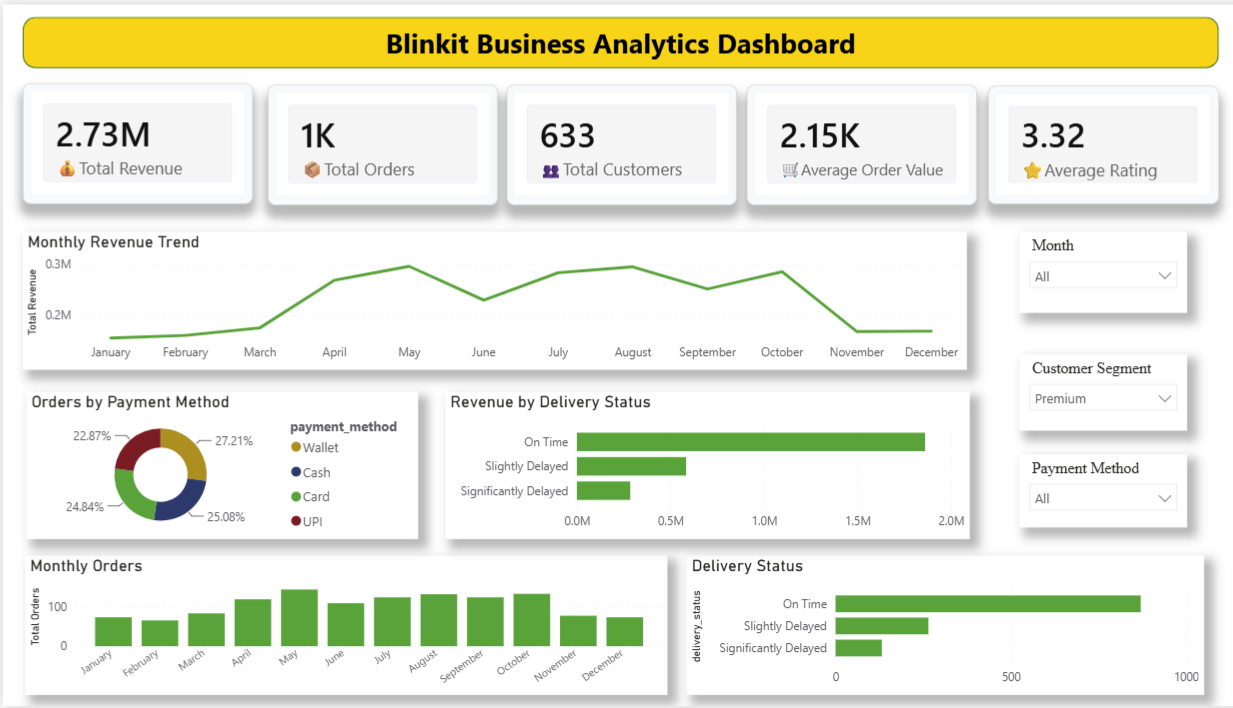

What the dashboard file says about the page in this screenshot:
{"tool":"powerbi","page":{"name":"Executive Dashboard","canvas":[1280,720],"ordinal":0},"visuals":[{"type":"lineChart","title":"Monthly Revenue Trend","fields":{"Category":["Date.Month"],"Y":["Measures (2).Total Revenue"]},"box":[20,233.3,968.3,141.7],"z":0},{"type":"clusteredColumnChart","title":"Monthly Orders","fields":{"Category":["Date.Month"],"Y":["Measures (2).Total Orders"]},"box":[23.3,565,658.3,143.3],"z":1000},{"type":"donutChart","title":"Orders by Payment Method","fields":{"Category":["Orders.payment_method"],"Y":["Measures (2).Total Orders"]},"box":[23.8,397.5,401.2,151.2],"z":2000},{"type":"shape","title":"Blinkit Business Analytics Dashboard","box":[20,12.5,1226.2,52.5],"z":3000},{"type":"clusteredBarChart","title":"Delivery Status","fields":{"Category":["Orders.delivery_status"],"Y":["Measures (2).Total Orders"]},"box":[701.4,565.7,530,142.9],"z":4000},{"type":"clusteredBarChart","title":"Revenue by Delivery Status","fields":{"Category":["Orders.delivery_status"],"Y":["Measures (2).Total Revenue"]},"box":[453.8,397.5,537.5,151.2],"z":5000},{"type":"slicer","fields":{"Values":["Date.Month"]},"box":[1041.7,233.3,171.7,83.3],"z":6000},{"type":"slicer","fields":{"Values":["Customers.customer_segment"]},"box":[1041.7,358.3,171.7,78.3],"z":7000},{"type":"slicer","fields":{"Values":["Orders.payment_method"]},"box":[1041.7,461.7,171.7,75],"z":8000},{"type":"cardVisual","fields":{"Data":["Measures (2).Total Revenue"]},"box":[20,81.2,236.2,123.8],"z":9000},{"type":"cardVisual","fields":{"Data":["Measures (2).Total Orders"]},"box":[271.2,82.5,236.2,123.8],"z":10000},{"type":"cardVisual","fields":{"Data":["Measures (2).Total Customers"]},"box":[516.2,82.5,236.2,123.8],"z":11000},{"type":"cardVisual","fields":{"Data":["Measures (2).Average Order Value"]},"box":[762.5,82.5,236.2,123.8],"z":12000},{"type":"cardVisual","fields":{"Data":["Measures (2).Average Rating"]},"box":[1010,83.3,236.7,121.7],"z":13000}]}

Visuals, with their boxes in screenshot pixels (x1, y1, x2, y2), scaled from the page's 1280x720 canvas onto the 1233x708 screenshot:
"Monthly Revenue Trend" lineChart: 19:229:952:369
"Monthly Orders" clusteredColumnChart: 22:556:657:696
"Orders by Payment Method" donutChart: 23:391:409:540
"Blinkit Business Analytics Dashboard" shape: 19:12:1200:64
"Delivery Status" clusteredBarChart: 676:556:1186:697
"Revenue by Delivery Status" clusteredBarChart: 437:391:955:540
slicer - Date.Month: 1003:229:1169:311
slicer - Customers.customer_segment: 1003:352:1169:429
slicer - Orders.payment_method: 1003:454:1169:528
cardVisual - Measures (2).Total Revenue: 19:80:247:202
cardVisual - Measures (2).Total Orders: 261:81:489:203
cardVisual - Measures (2).Total Customers: 497:81:725:203
cardVisual - Measures (2).Average Order Value: 735:81:962:203
cardVisual - Measures (2).Average Rating: 973:82:1201:202
